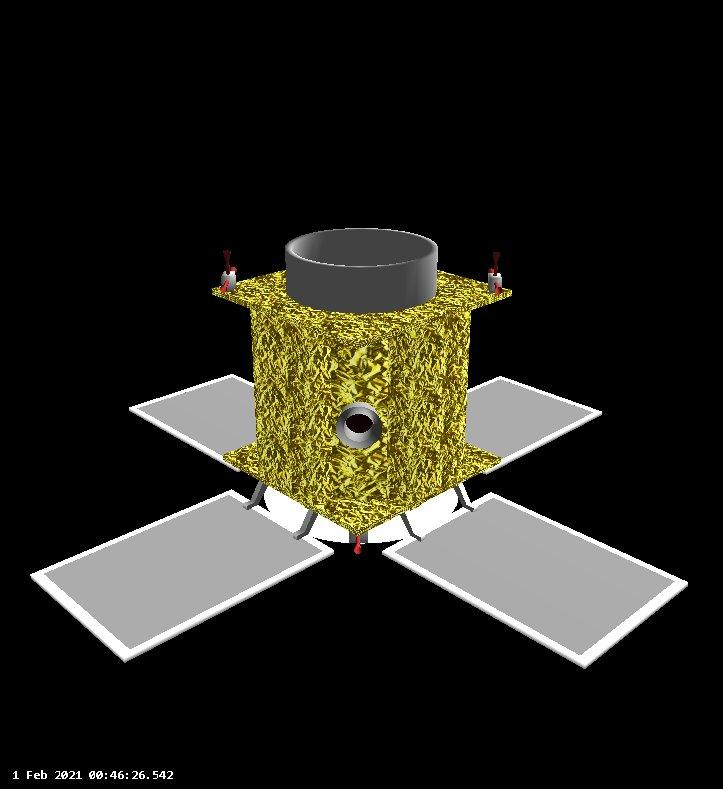body: (210, 265, 514, 540)
solar: (382, 491, 690, 670), (29, 489, 336, 665), (128, 374, 283, 473), (461, 373, 604, 476)
thruster: (282, 226, 440, 314), (221, 247, 233, 277), (490, 250, 500, 279), (353, 530, 363, 555), (217, 279, 230, 292), (491, 280, 502, 295), (229, 265, 240, 277), (488, 267, 495, 274)
